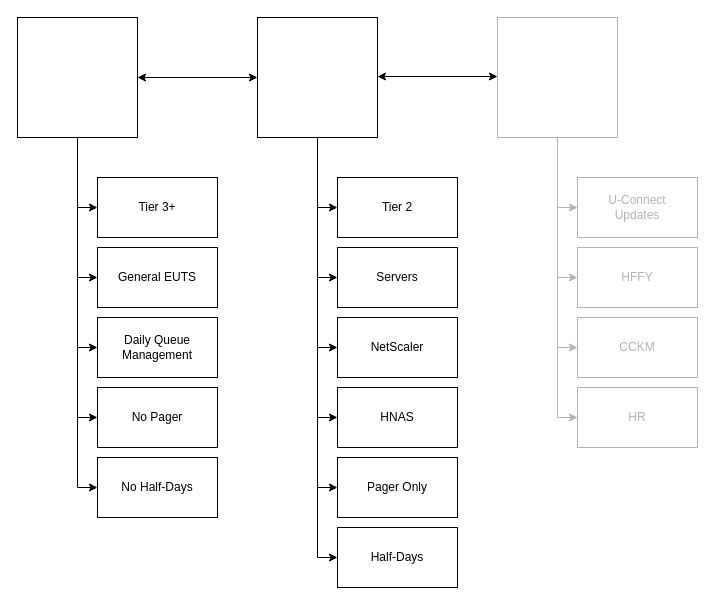
Some shapes in this 715 by 605 pixel diagram are drawn without their labels. The shapes that lost their labels are listed below. From the top down, each one's centre as x and y in pixels, then its label:
At point (77, 77): "Web Center Application Development (8-5, M-F)".
At point (317, 77): "Web Center Infrastructure Support (24/7/365)".
At point (557, 77): "U-Connect Support (8-5, M-F)".
